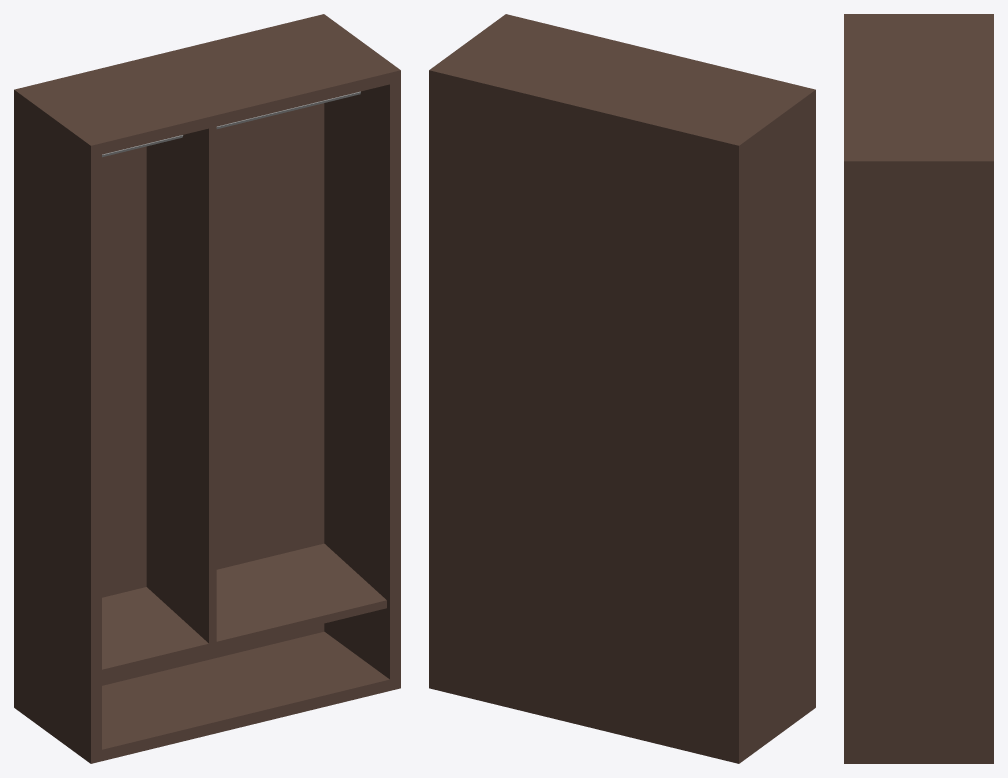
The model's file is wardrobe.glb.
3 renders of one model, left to right at view 1: azimuth 30°, elevation 25°; view 2: azimuth 150°, elevation 25°; view 3: azimuth 270°, elevation 25°, orthographic. The views are drawn at different scales.
Parts seen in each view (by area): view 1: Wardrobe; view 2: Wardrobe; view 3: Wardrobe.
Boxes of the visible parts, box(x1,y1,x2,y2) form: Wardrobe: box(14, 14, 400, 763); Wardrobe: box(429, 14, 815, 763); Wardrobe: box(844, 14, 993, 763).
Bounding box in the file's own units: 1.19 × 2.27 × 0.5115.
1 material, 1 textured.
